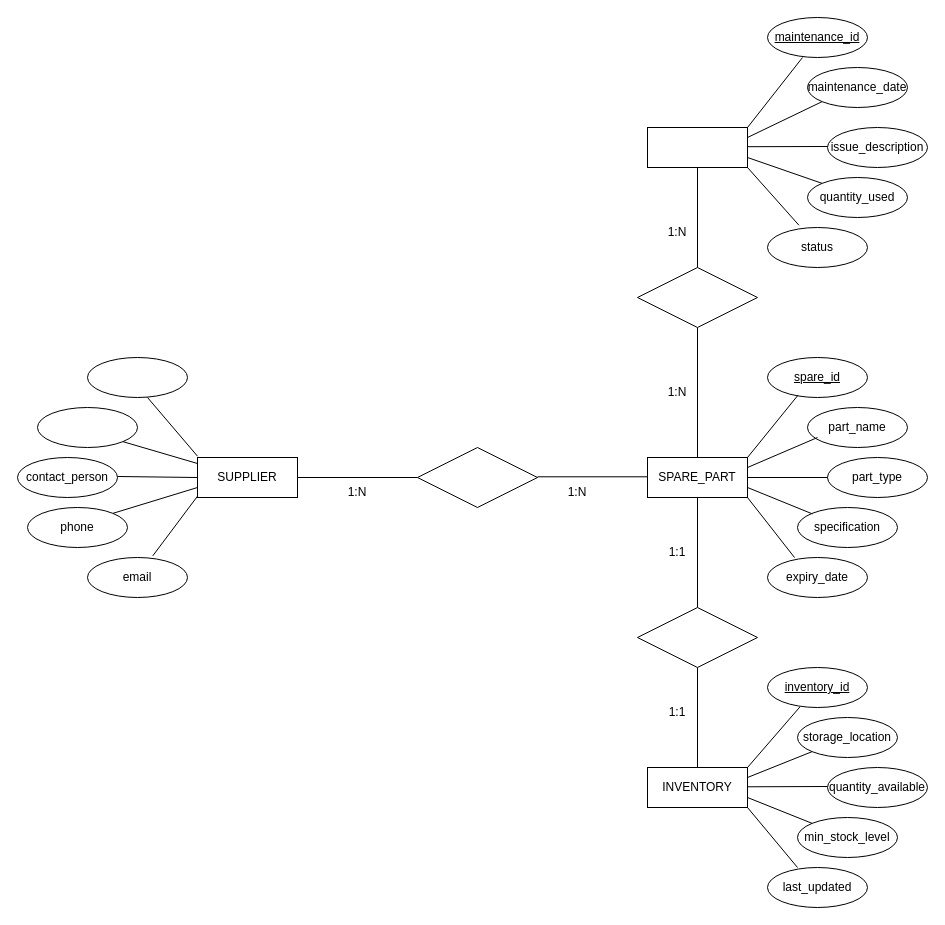
The diagram is 945 pixels wide and 925 high, and some of its shapes have lost their labels. Each missing label, with the centre of its shape:
"MAINTENANCE" belongs at [697,147].
"STORED_IN" belongs at [697,637].
"supplier_id" belongs at [137,377].
"supplier_name" belongs at [87,427].
"SUPPLIES" belongs at [477,477].
"USED_IN" belongs at [697,297].
